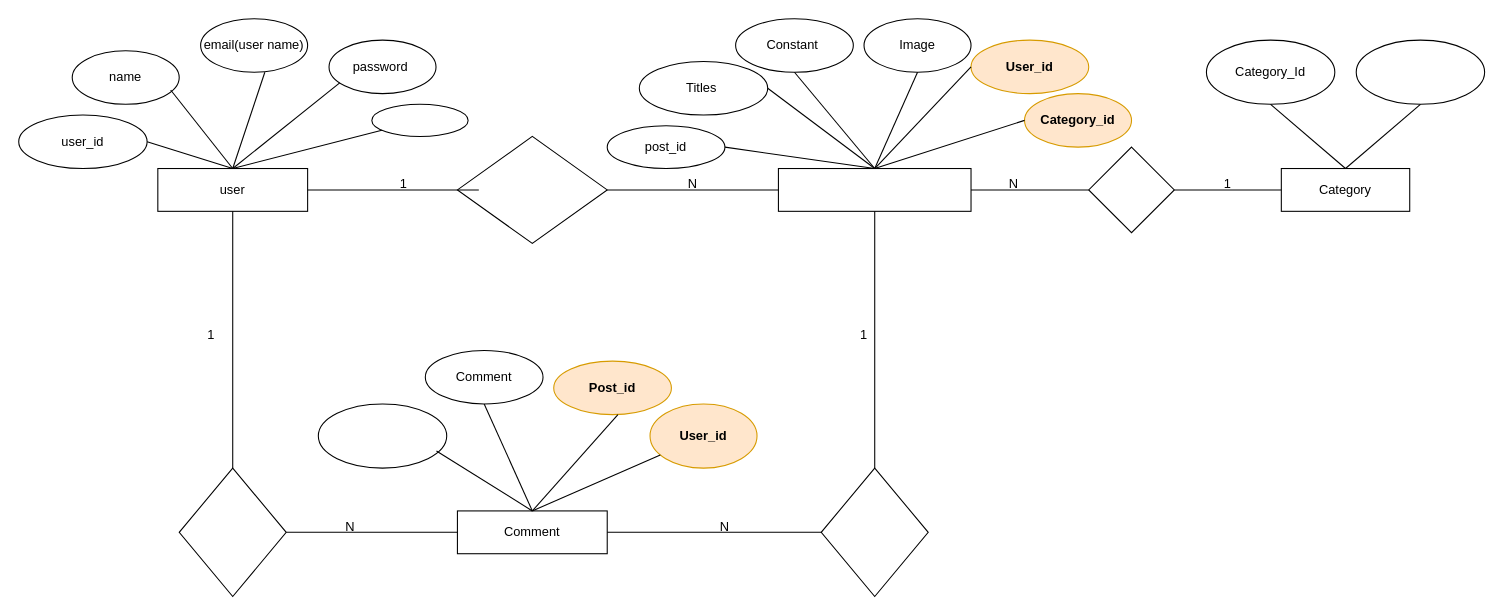
This 1503x615 diagram has some shape labels left out. The shapes that lost their labels are listed below. From the top down, each one's box as (x1, y1, x2, y2) in pixels, then its label:
(1355, 39, 1485, 104): Title
(371, 103, 468, 136): about
(456, 135, 607, 243): One user can do many post
(777, 167, 971, 211): post
(1088, 146, 1174, 233): Contains
(317, 403, 447, 468): Comment_id
(178, 467, 286, 597): User can do many comments
(820, 467, 928, 597): Post can have many comments
